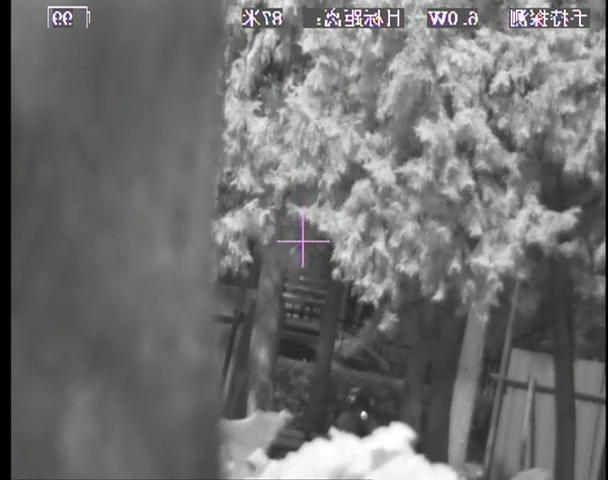my: (359, 409, 371, 420)
